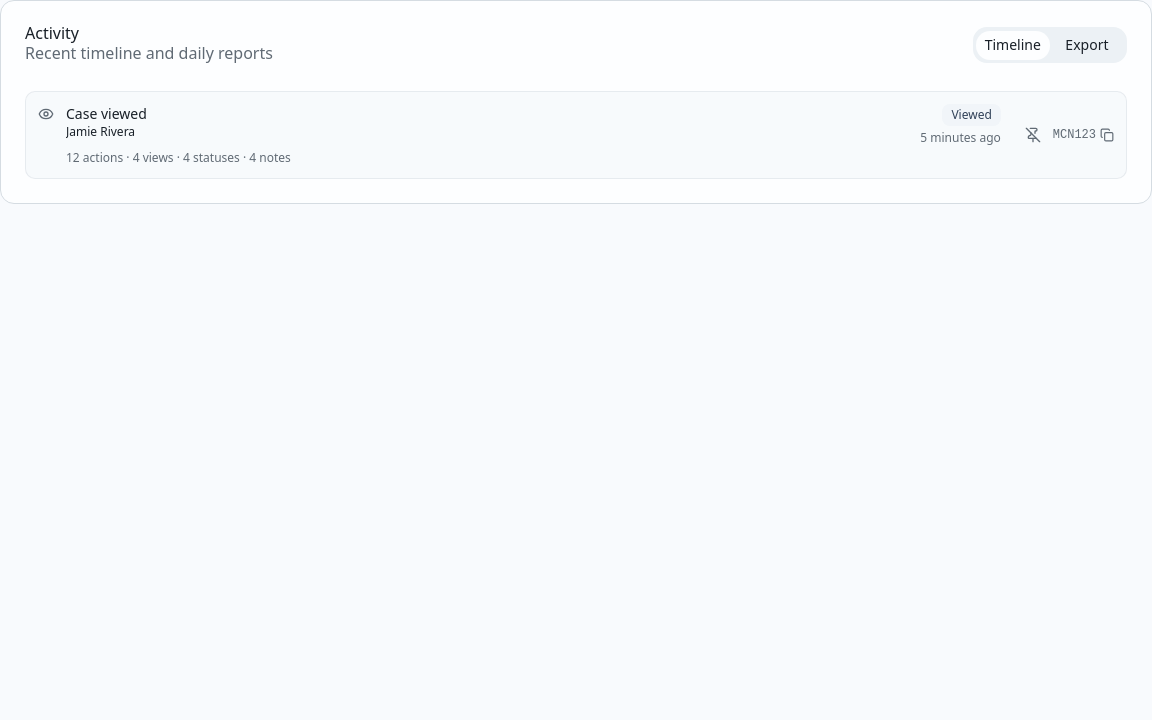
Scenario: ActivityWidget › has no accessibility violations
Click the button with aria-label "View activity for Jamie Rivera".
click(106, 114)  # box [26, 92, 1013, 178]
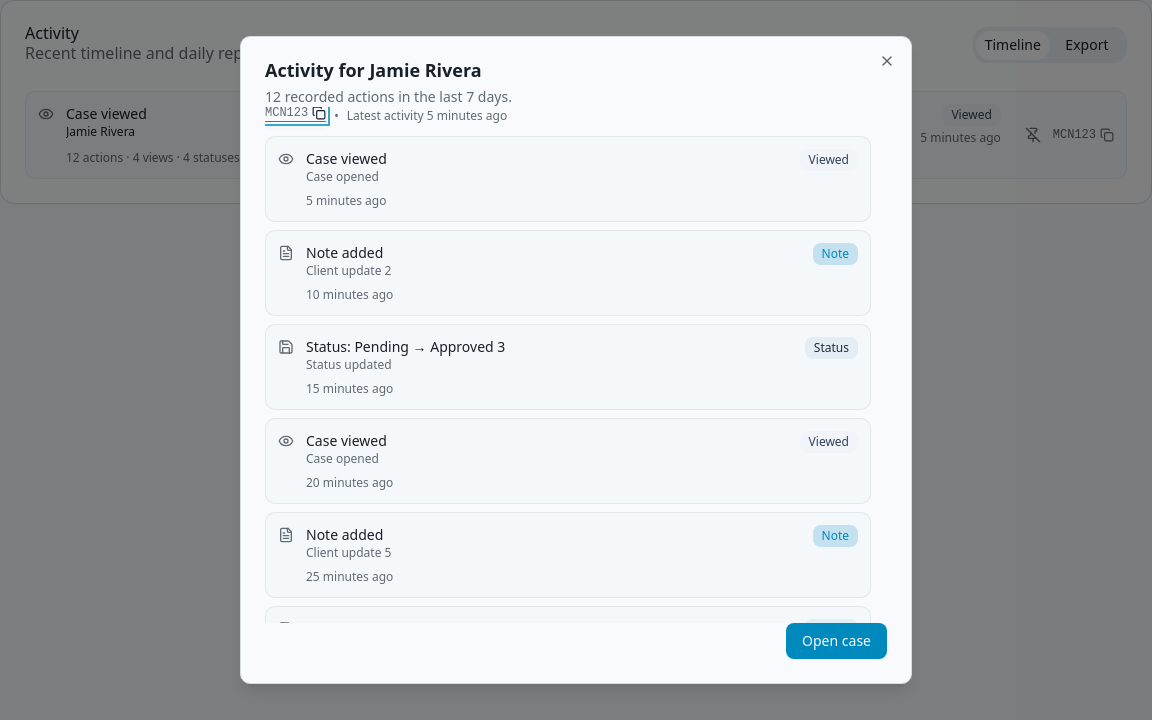
Now the dialog "Activity for Jamie Rivera" is shown, box [240, 36, 912, 684]
